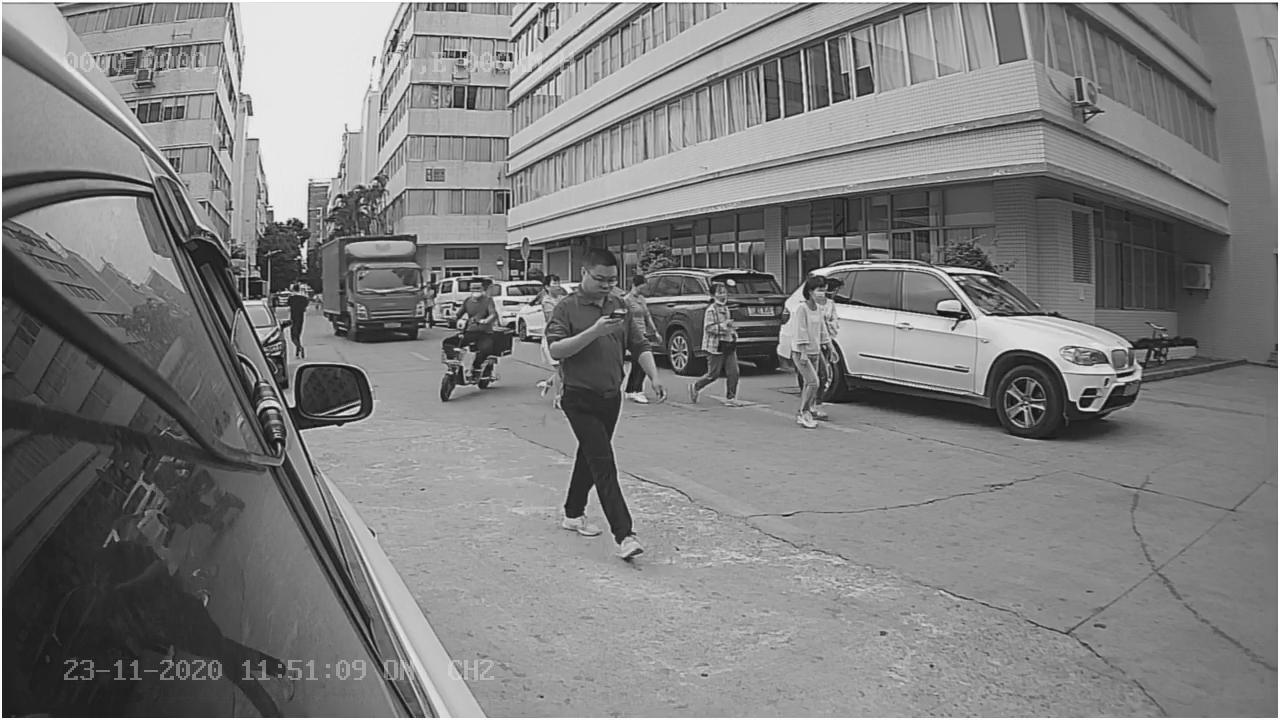person: (548, 246, 669, 558), (688, 279, 752, 406)
